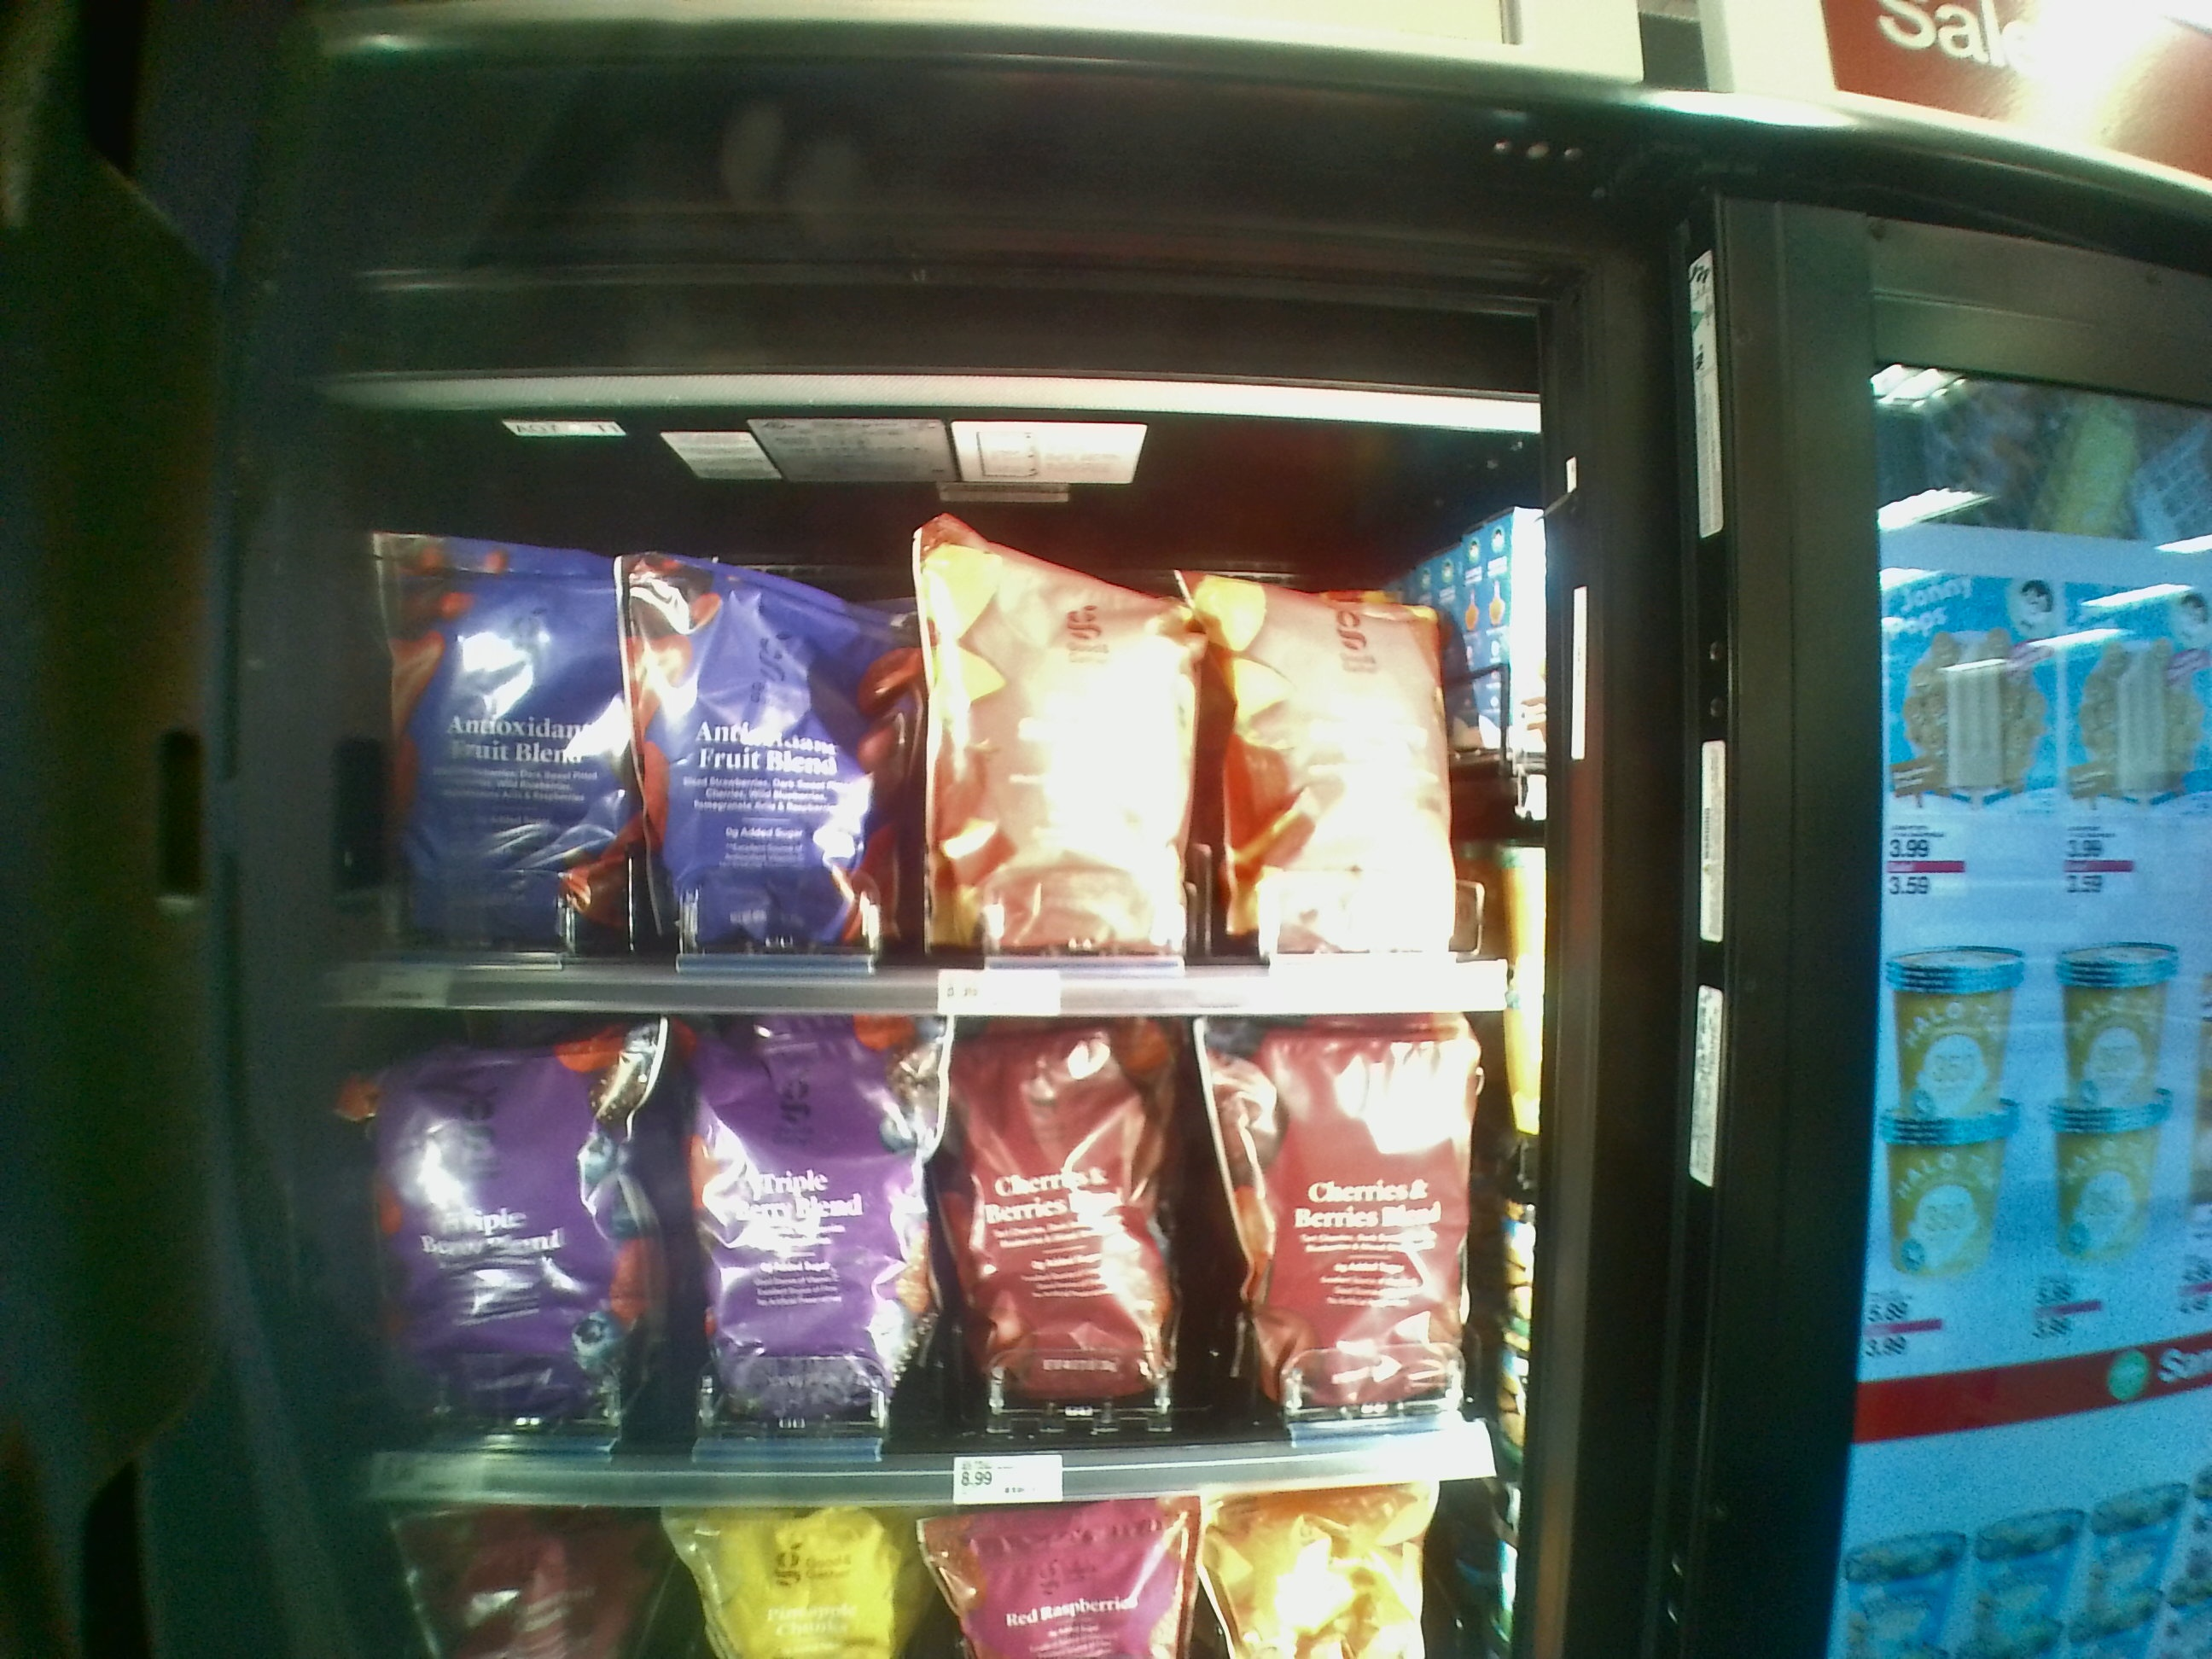shelf: (320, 397, 1529, 1011), (334, 1009, 1524, 1504)
